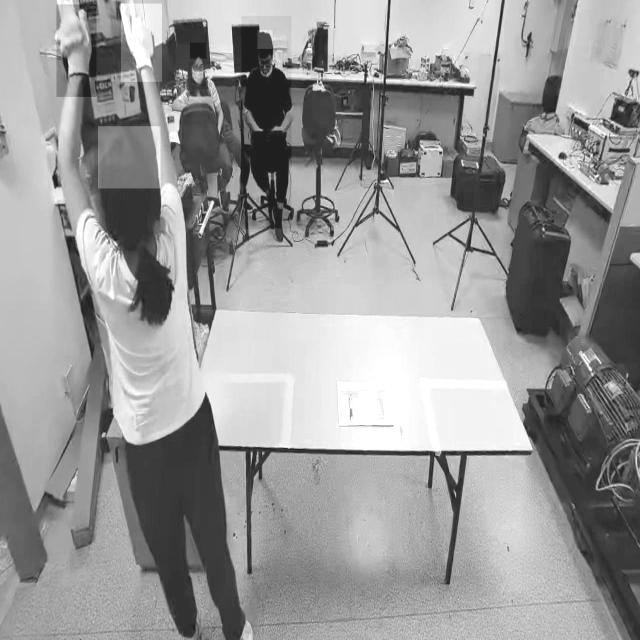face_mask: (187, 62, 209, 91)
hand_glove: (56, 4, 96, 98), (120, 3, 162, 82)
hand_noglove: (271, 124, 285, 132)
head_nohelmet: (98, 126, 160, 190), (257, 30, 273, 50), (190, 42, 207, 59)
person: (62, 99, 260, 639), (241, 16, 291, 229), (175, 44, 235, 208)
shoes: (268, 198, 287, 246)
